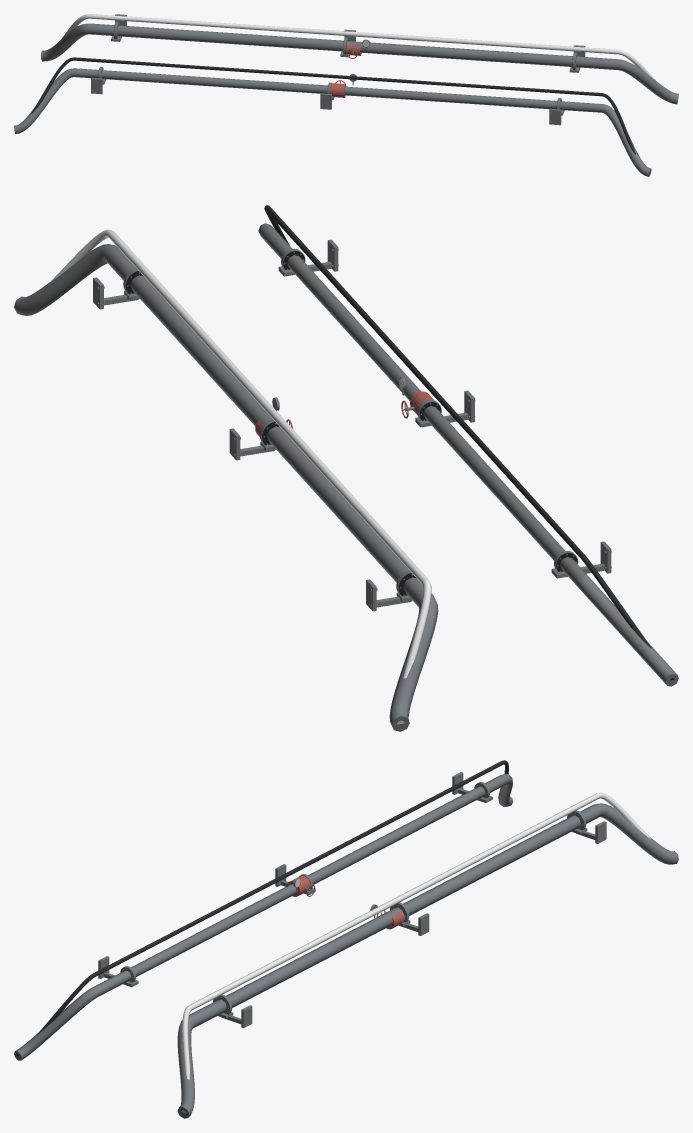
File: BD_T05_UpperProcessLines.fbx
3 views of the same model, one above another, from view 1: azimuth 30°, elevation 25°; view 2: azimuth 150°, elevation 25°; view 3: azimuth 270°, elevation 25° (orthographic). The views are drawn at different scales.
Visible parts, largest first — view 1: BD_T05_UpperProcessLines; view 2: BD_T05_UpperProcessLines; view 3: BD_T05_UpperProcessLines.
Part boxes in pixels (<box>): BD_T05_UpperProcessLines: <box>14,14,678,176</box>; BD_T05_UpperProcessLines: <box>14,205,678,731</box>; BD_T05_UpperProcessLines: <box>14,760,678,1118</box>.
Size of the model in its own units: 1593 by 189 by 1421.
